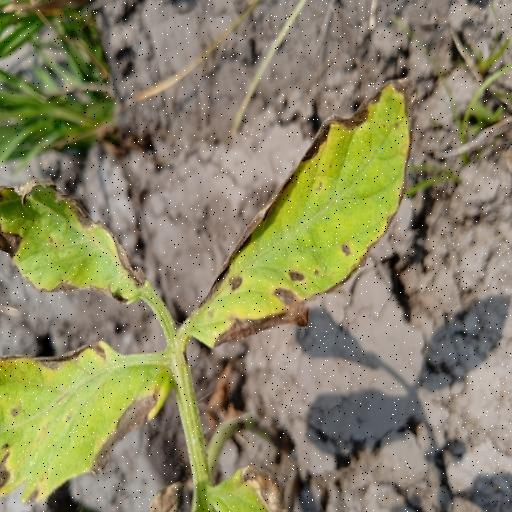Tomato_Brown_Spots: (180, 77, 416, 353), (0, 338, 183, 512), (0, 178, 162, 310)
